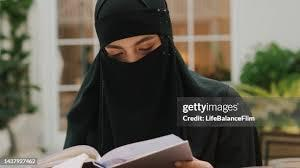scarf-kerchief: (80, 0, 195, 97)
